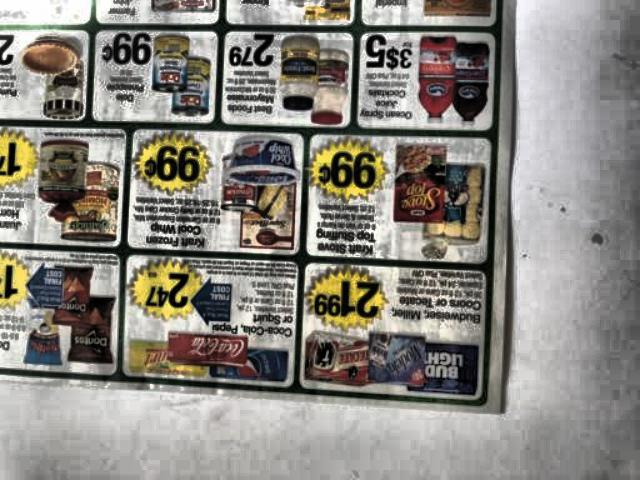Paper: (0, 0, 518, 417)
